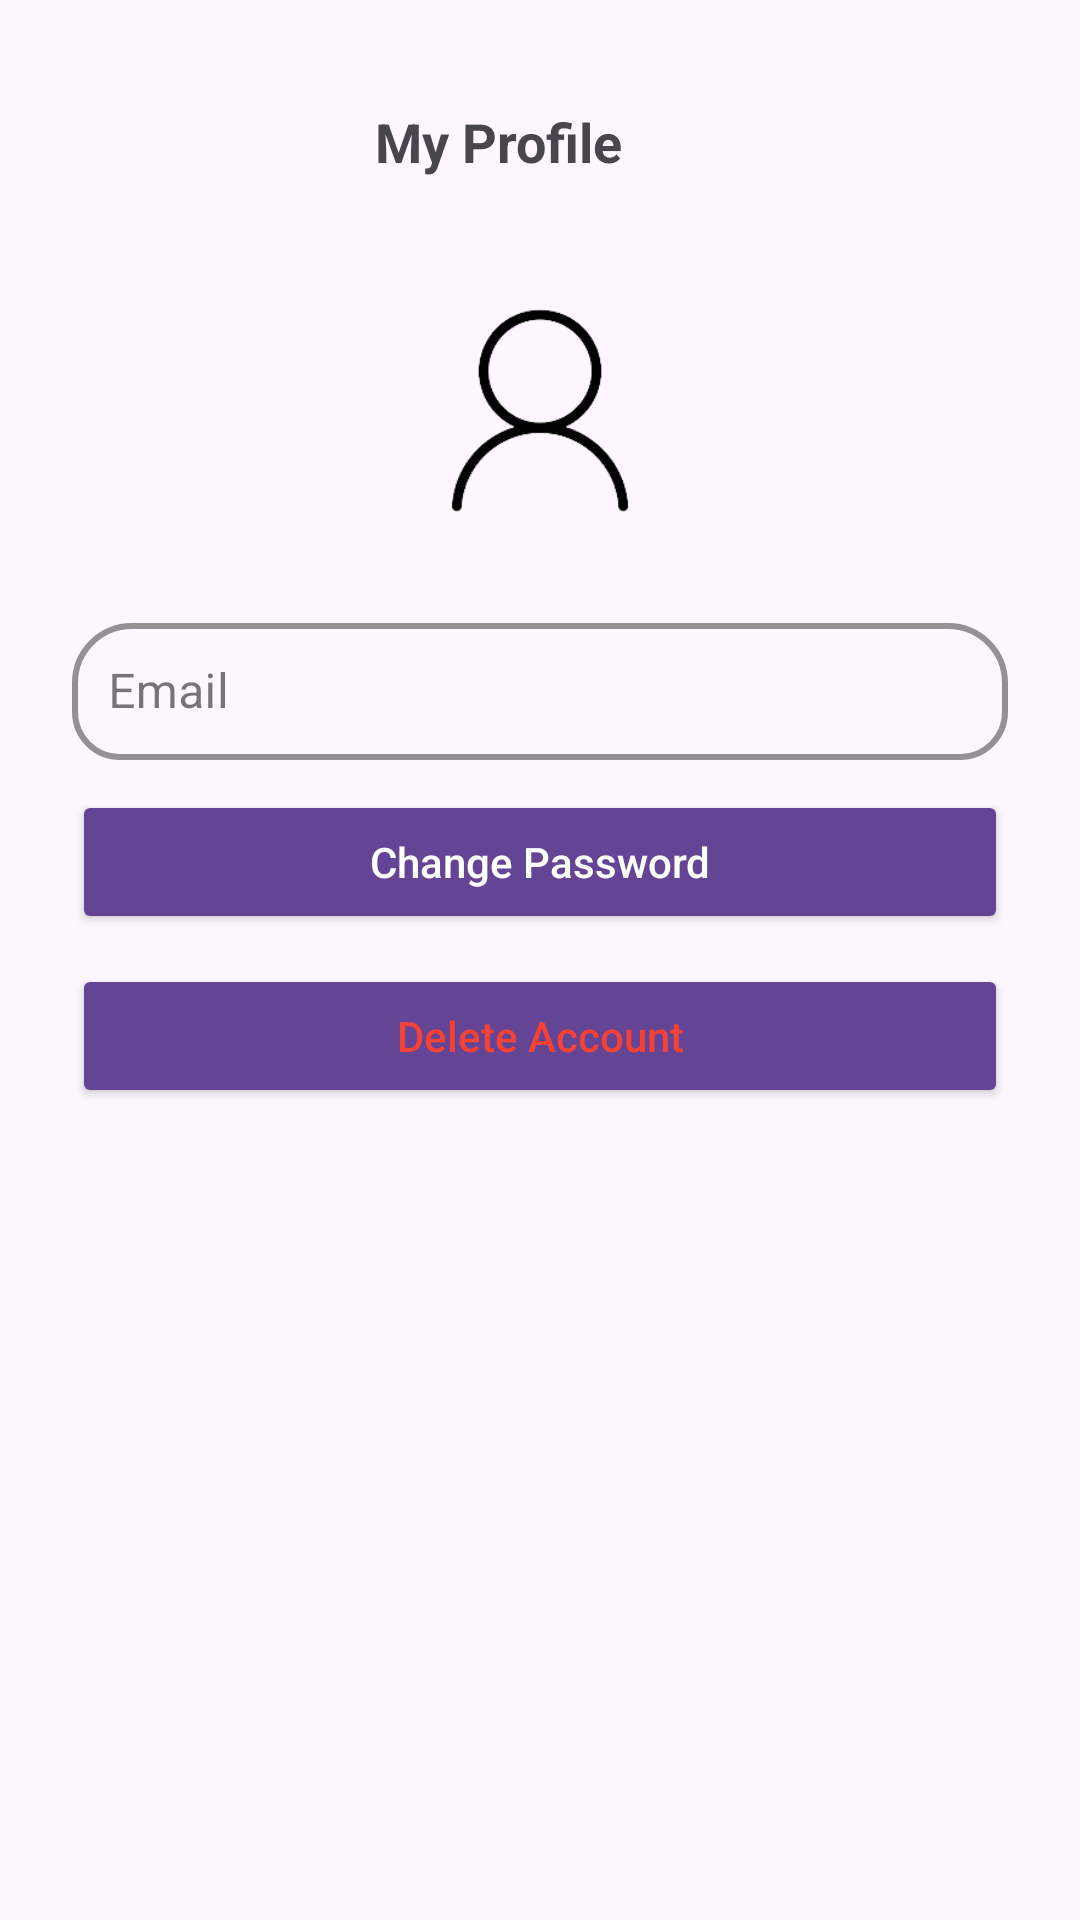

Icons on this 1080px x 1920px Android screen, each with its box as (x1, y1, x2, y2):
user: (452, 309, 629, 512)
